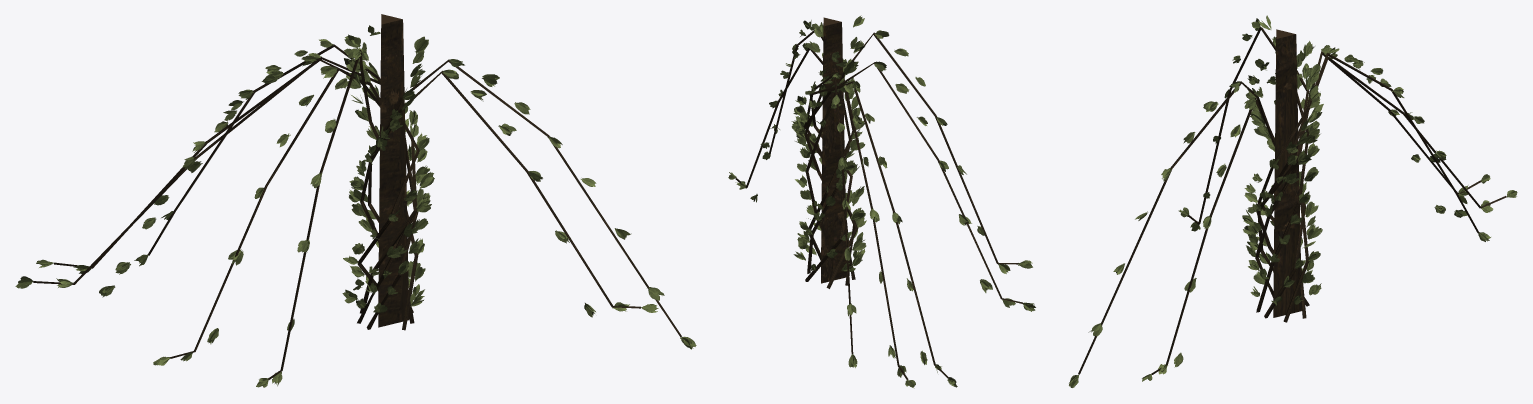
The model's file is liana_cluster_v02_LOD1.fbx.
The picture shows the model from 3 angles, left to right: view 1: azimuth 30°, elevation 25°; view 2: azimuth 150°, elevation 25°; view 3: azimuth 270°, elevation 25°; orthographic projection. The views are drawn at different scales.
Visible parts, largest first — view 1: liana_cluster_v02_LOD1; view 2: liana_cluster_v02_LOD1; view 3: liana_cluster_v02_LOD1.
Part boxes in pixels (x1,y1,x2,y2): liana_cluster_v02_LOD1: (15,14,696,387); liana_cluster_v02_LOD1: (728,15,1035,388); liana_cluster_v02_LOD1: (1069,15,1517,387).
Size of the model in its own units: 229 by 149 by 213.
2 materials, 2 textured.
